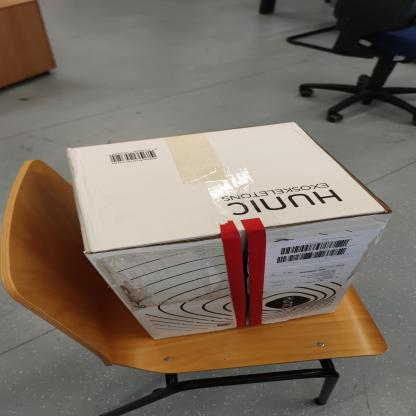box: (42, 122, 391, 336)
